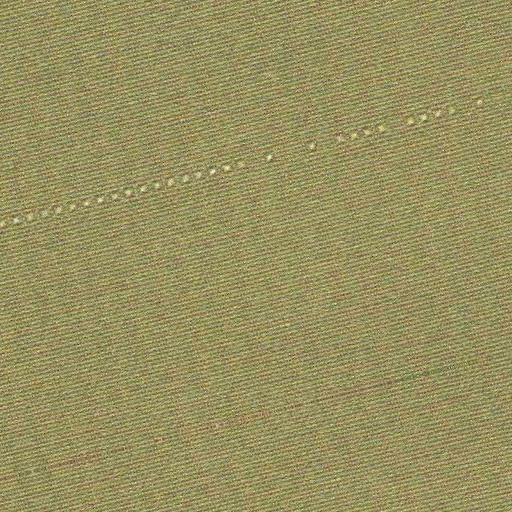slub: (0, 91, 491, 239)
